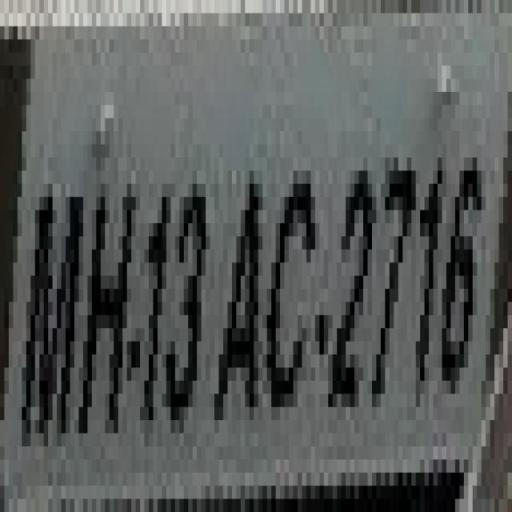number plate: (0, 52, 503, 486)
